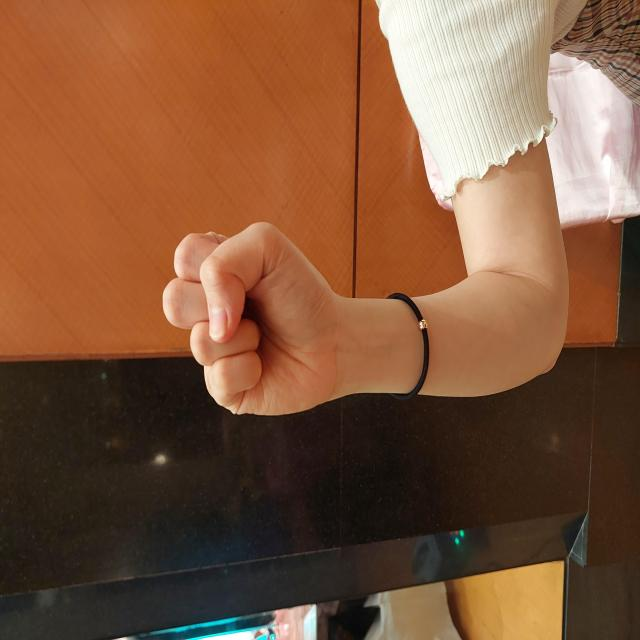S: (220, 158, 422, 342)
